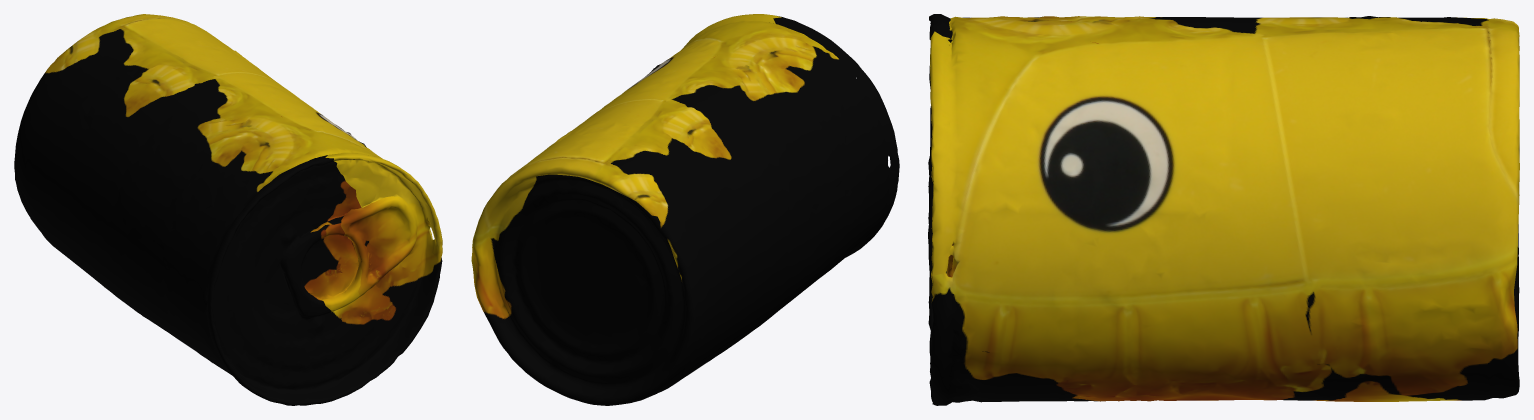
3 renders of one model, left to right at view 1: azimuth 30°, elevation 25°; view 2: azimuth 150°, elevation 25°; view 3: azimuth 270°, elevation 25°, orthographic. The views are drawn at different scales.
Size of the model in its own units: 0.0679 by 0.0677 by 0.1019.
